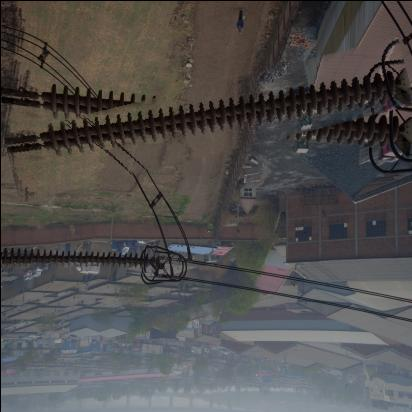insulator: (5, 61, 412, 179), (1, 247, 156, 279)
